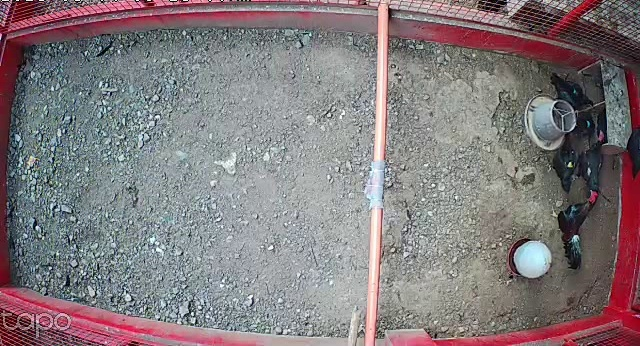Chicken: (574, 131, 611, 201), (543, 128, 581, 193), (547, 70, 600, 113), (568, 112, 599, 137)
Rooster: (547, 186, 598, 272)
Saddle_Color_Yellow: (566, 161, 575, 169)
